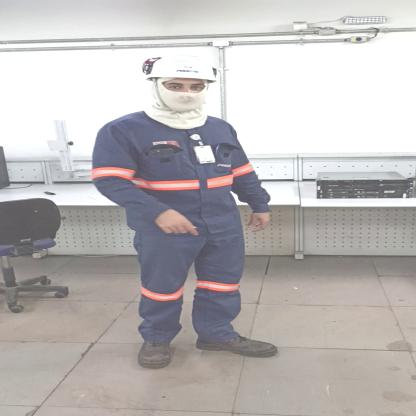Balaclava: (137, 79, 213, 133)
Capacete: (139, 51, 226, 85)
